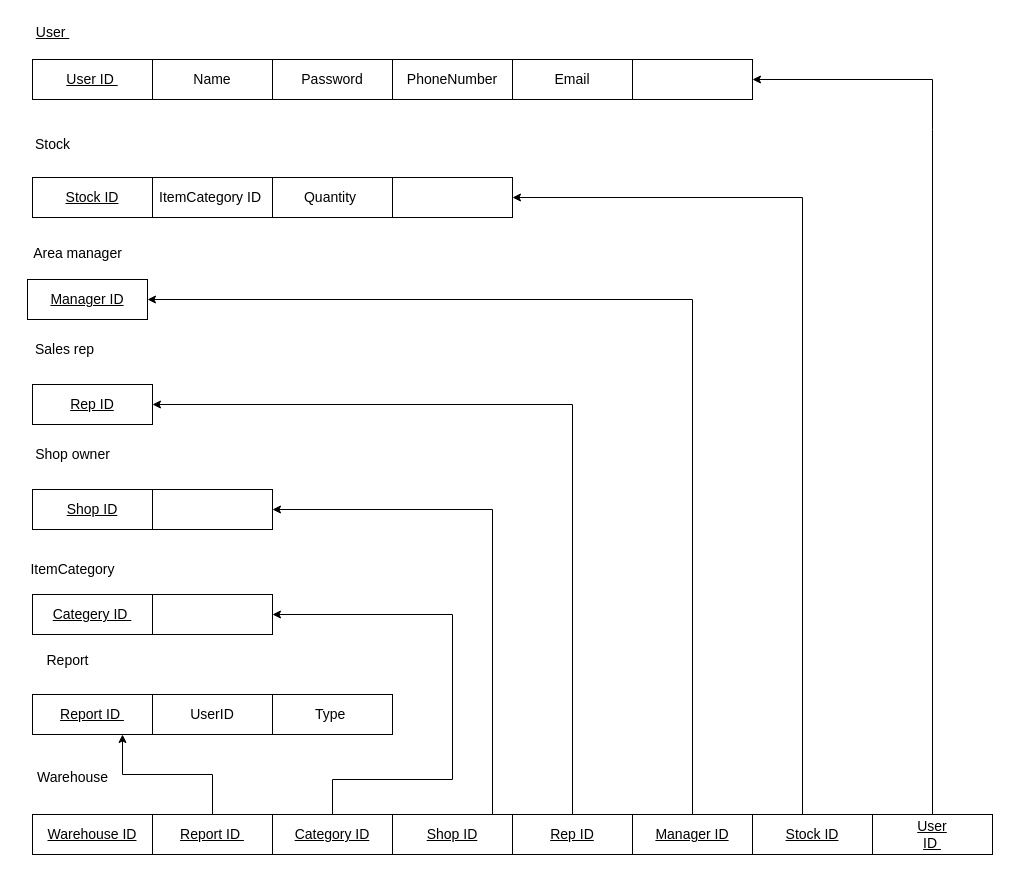
The diagram is 1010 pixels wide and 872 high, and some of its shapes have lost their labels. The shapes that lost their labels are listed below. From the top down, each one's box as (x1, y1, x2, y2) in pixels, then its label:
(632, 58, 752, 100): Province
(392, 176, 512, 218): Location
(152, 488, 272, 530): Address
(152, 594, 272, 634): CategeryName
